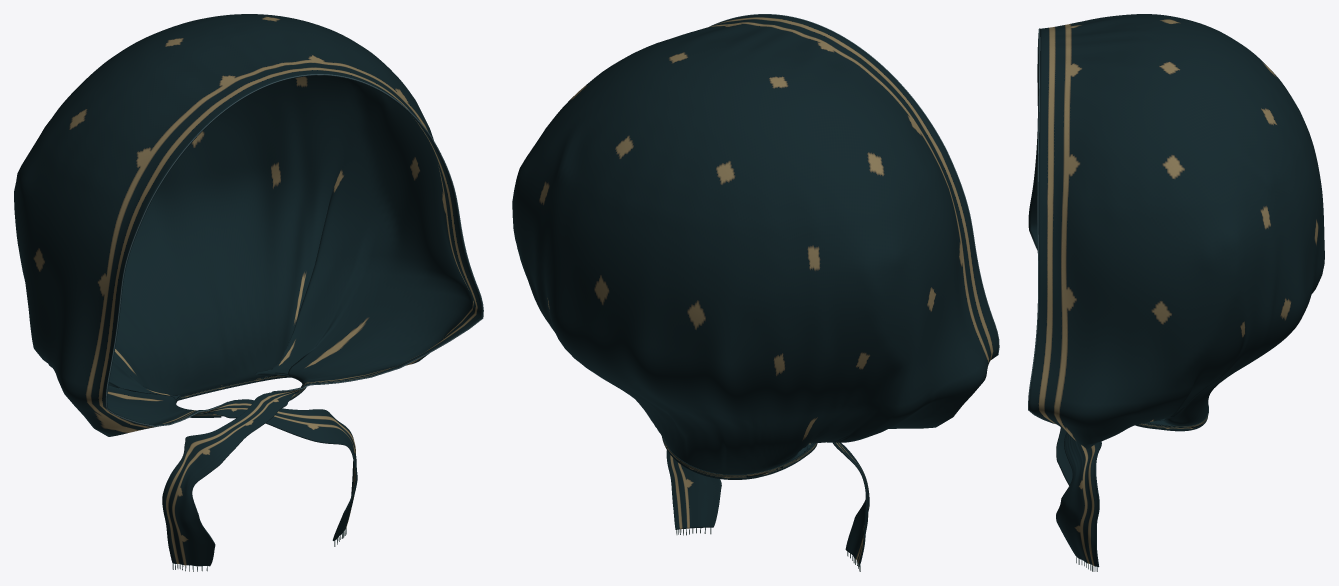
Rendered from Feminine-twin-braids-triangle-pashmina249-headgear.glb.
The picture shows the model from 3 angles, left to right: view 1: azimuth 30°, elevation 25°; view 2: azimuth 150°, elevation 25°; view 3: azimuth 270°, elevation 25°; orthographic projection. The views are drawn at different scales.
Parts seen in each view (by area): view 1: 226 headgear / Headwear / continuous woven pashmina239, 226 headgear / Headwear / face edge239; view 2: 226 headgear / Headwear / continuous woven pashmina239, 226 headgear / Headwear / face edge239; view 3: 226 headgear / Headwear / continuous woven pashmina239, 226 headgear / Headwear / face edge239.
Boxes of the visible parts, box(x1,y1,x2,y2) form: 226 headgear / Headwear / continuous woven pashmina239: box(14, 14, 482, 566); 226 headgear / Headwear / face edge239: box(105, 74, 483, 426); 226 headgear / Headwear / continuous woven pashmina239: box(512, 14, 998, 565); 226 headgear / Headwear / face edge239: box(709, 14, 999, 359); 226 headgear / Headwear / continuous woven pashmina239: box(1028, 14, 1324, 567); 226 headgear / Headwear / face edge239: box(1028, 28, 1054, 423).
Size of the model in its own units: 1.14 by 1.36 by 0.7415.
Materials: 3 (1 with a texture image).
